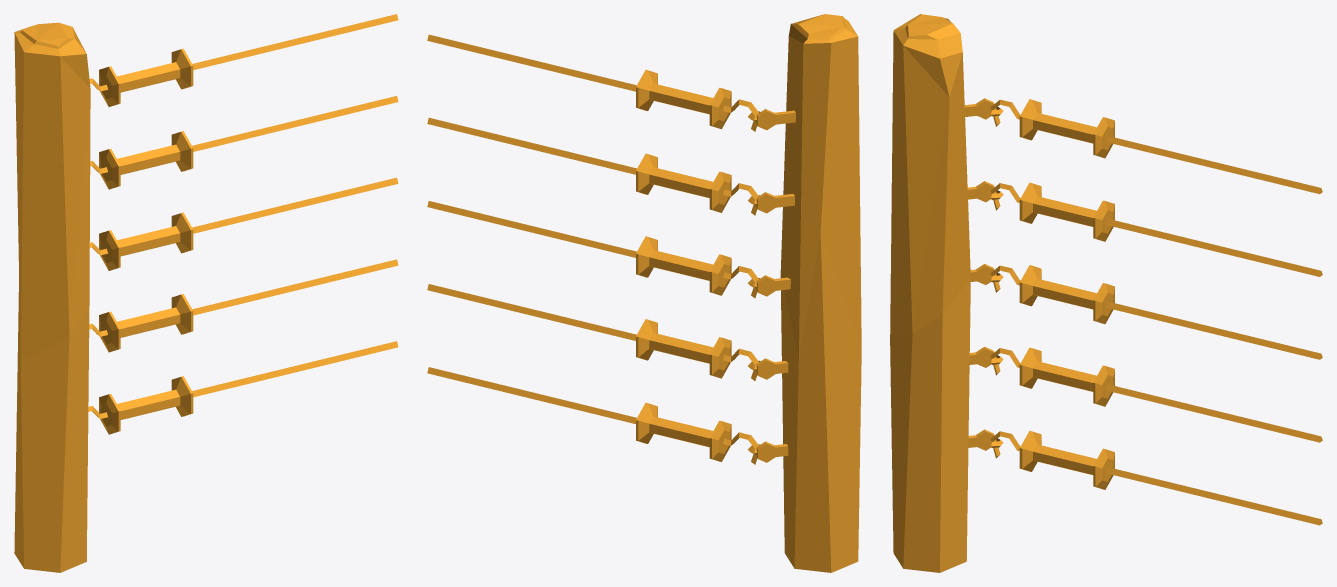
File: SM_Fence_Electric_End_B.fbx
3 renders of one model, left to right at view 1: azimuth 30°, elevation 25°; view 2: azimuth 150°, elevation 25°; view 3: azimuth 330°, elevation 25°, orthographic.
Parts seen in each view (by area): view 1: fence-electric-end-b; view 2: fence-electric-end-b; view 3: fence-electric-end-b.
Part boxes in pixels (x1=…): fence-electric-end-b: x1=14, y1=14, x2=398, y2=572; fence-electric-end-b: x1=427, y1=14, x2=861, y2=572; fence-electric-end-b: x1=890, y1=14, x2=1322, y2=572.
Size of the model in its own units: 1.21 by 1.51 by 0.2492.
